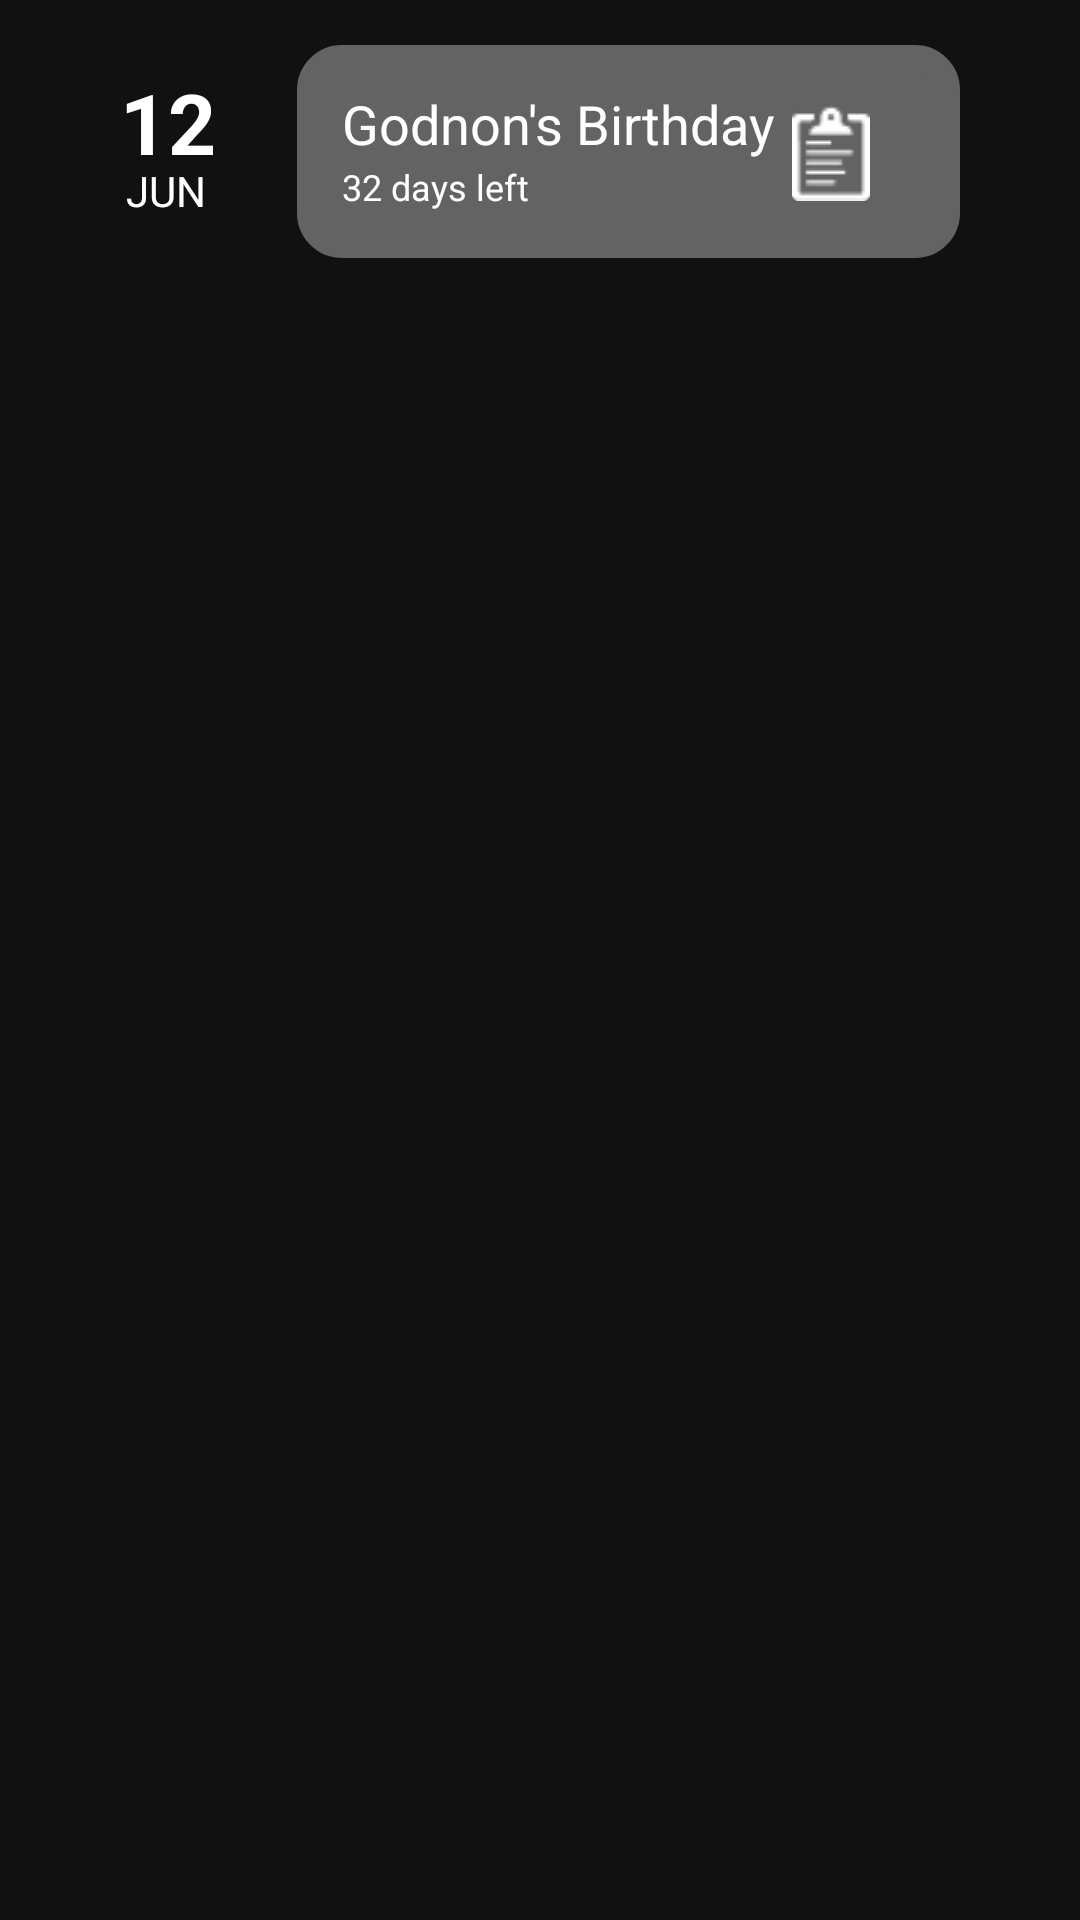

Icons on this 1080×1920 Android screen, each with the point to tap as (x,y):
clipboard: (831,154)
